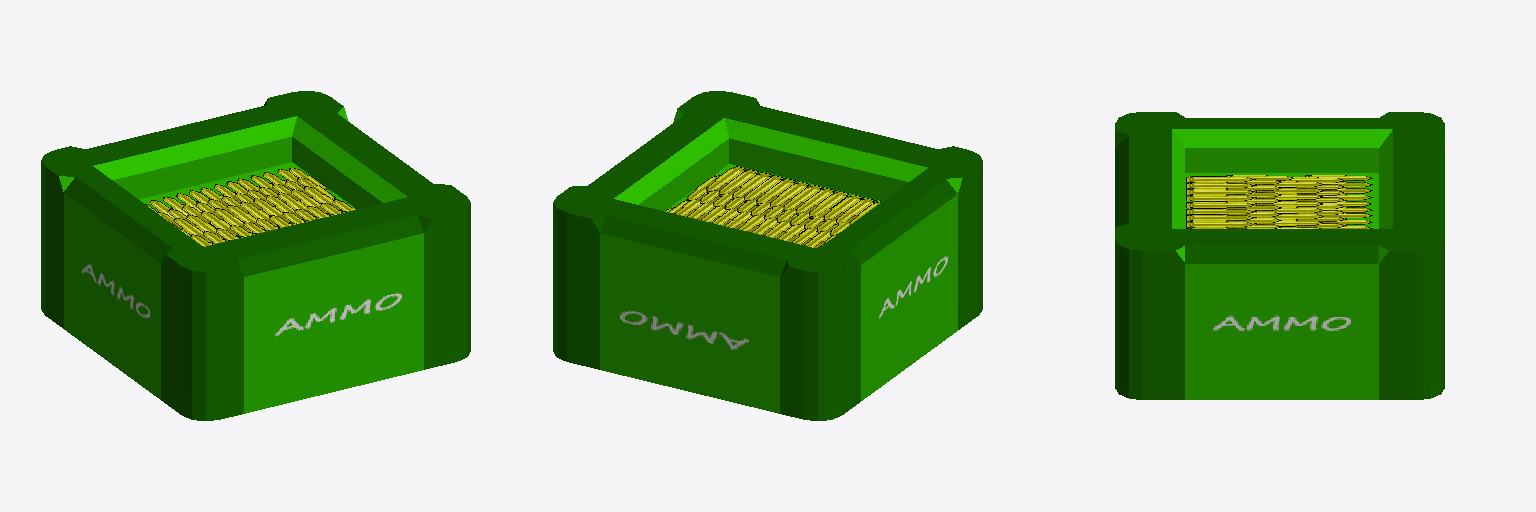
3 renders of one model, left to right at view 1: azimuth 30°, elevation 25°; view 2: azimuth 150°, elevation 25°; view 3: azimuth 270°, elevation 25°, orthographic.
Visible parts, largest first — view 1: pCube1; view 2: pCube1; view 3: pCube1.
Boxes of the visible parts, <box> form: pCube1: <box>41,91,470,420</box>; pCube1: <box>553,91,982,420</box>; pCube1: <box>1115,112,1444,399</box>.
Size of the model in its own units: 20 by 10 by 20.
Materials: 1 (1 with a texture image).